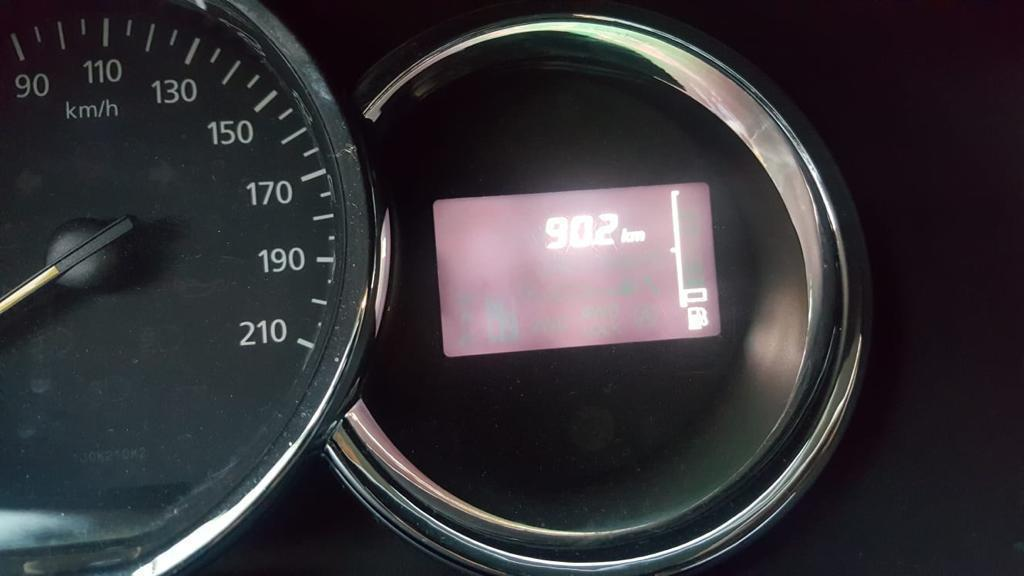,: (590, 239, 595, 245)
0: (568, 214, 592, 248)
2: (595, 213, 619, 246)
9: (543, 215, 568, 249)
X: (631, 229, 645, 242), (620, 227, 631, 243)
odometer: (428, 178, 726, 360)
